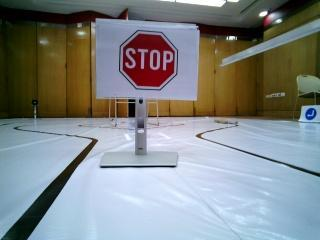stop: (114, 32, 189, 89), (156, 58, 156, 61)
